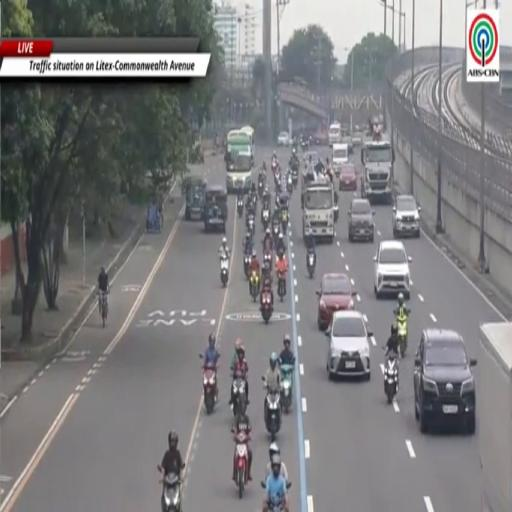bus: (225, 131, 253, 193)
car: (414, 329, 476, 435), (325, 311, 372, 380), (317, 274, 356, 330), (374, 240, 411, 299), (348, 199, 375, 243), (393, 195, 420, 237), (339, 164, 356, 190), (304, 151, 319, 167), (342, 135, 353, 154), (278, 132, 290, 147), (352, 131, 363, 147)
motorcycle: (235, 432, 249, 499), (265, 392, 281, 441), (394, 309, 410, 357), (162, 474, 181, 511), (203, 364, 217, 414), (384, 355, 398, 403), (280, 364, 293, 413), (233, 377, 247, 418), (397, 318, 408, 357), (261, 293, 272, 324), (250, 270, 259, 302), (306, 251, 316, 278), (221, 256, 229, 286), (277, 272, 285, 301), (267, 498, 284, 511), (244, 254, 252, 278), (281, 208, 288, 234), (262, 208, 269, 230), (247, 215, 254, 237), (273, 220, 279, 244), (264, 251, 272, 269), (237, 198, 244, 217), (258, 176, 264, 198), (287, 173, 293, 194), (301, 138, 309, 151), (292, 169, 297, 187), (252, 195, 257, 213), (334, 204, 338, 222)
truck: (477, 323, 511, 511), (361, 124, 395, 204), (301, 175, 335, 243)
